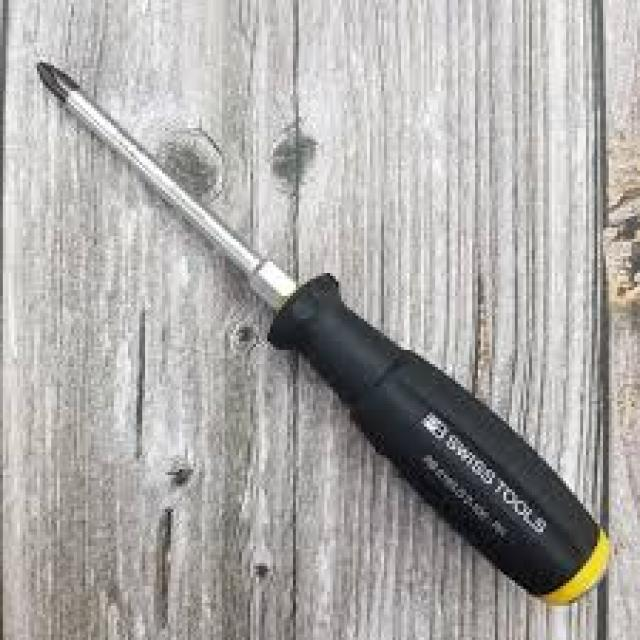screwdriver: (33, 58, 616, 610)
